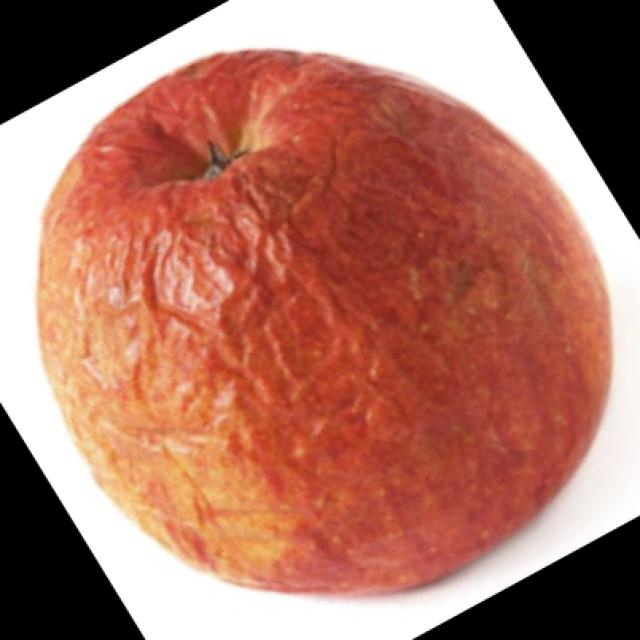overripe: (30, 38, 619, 599)
